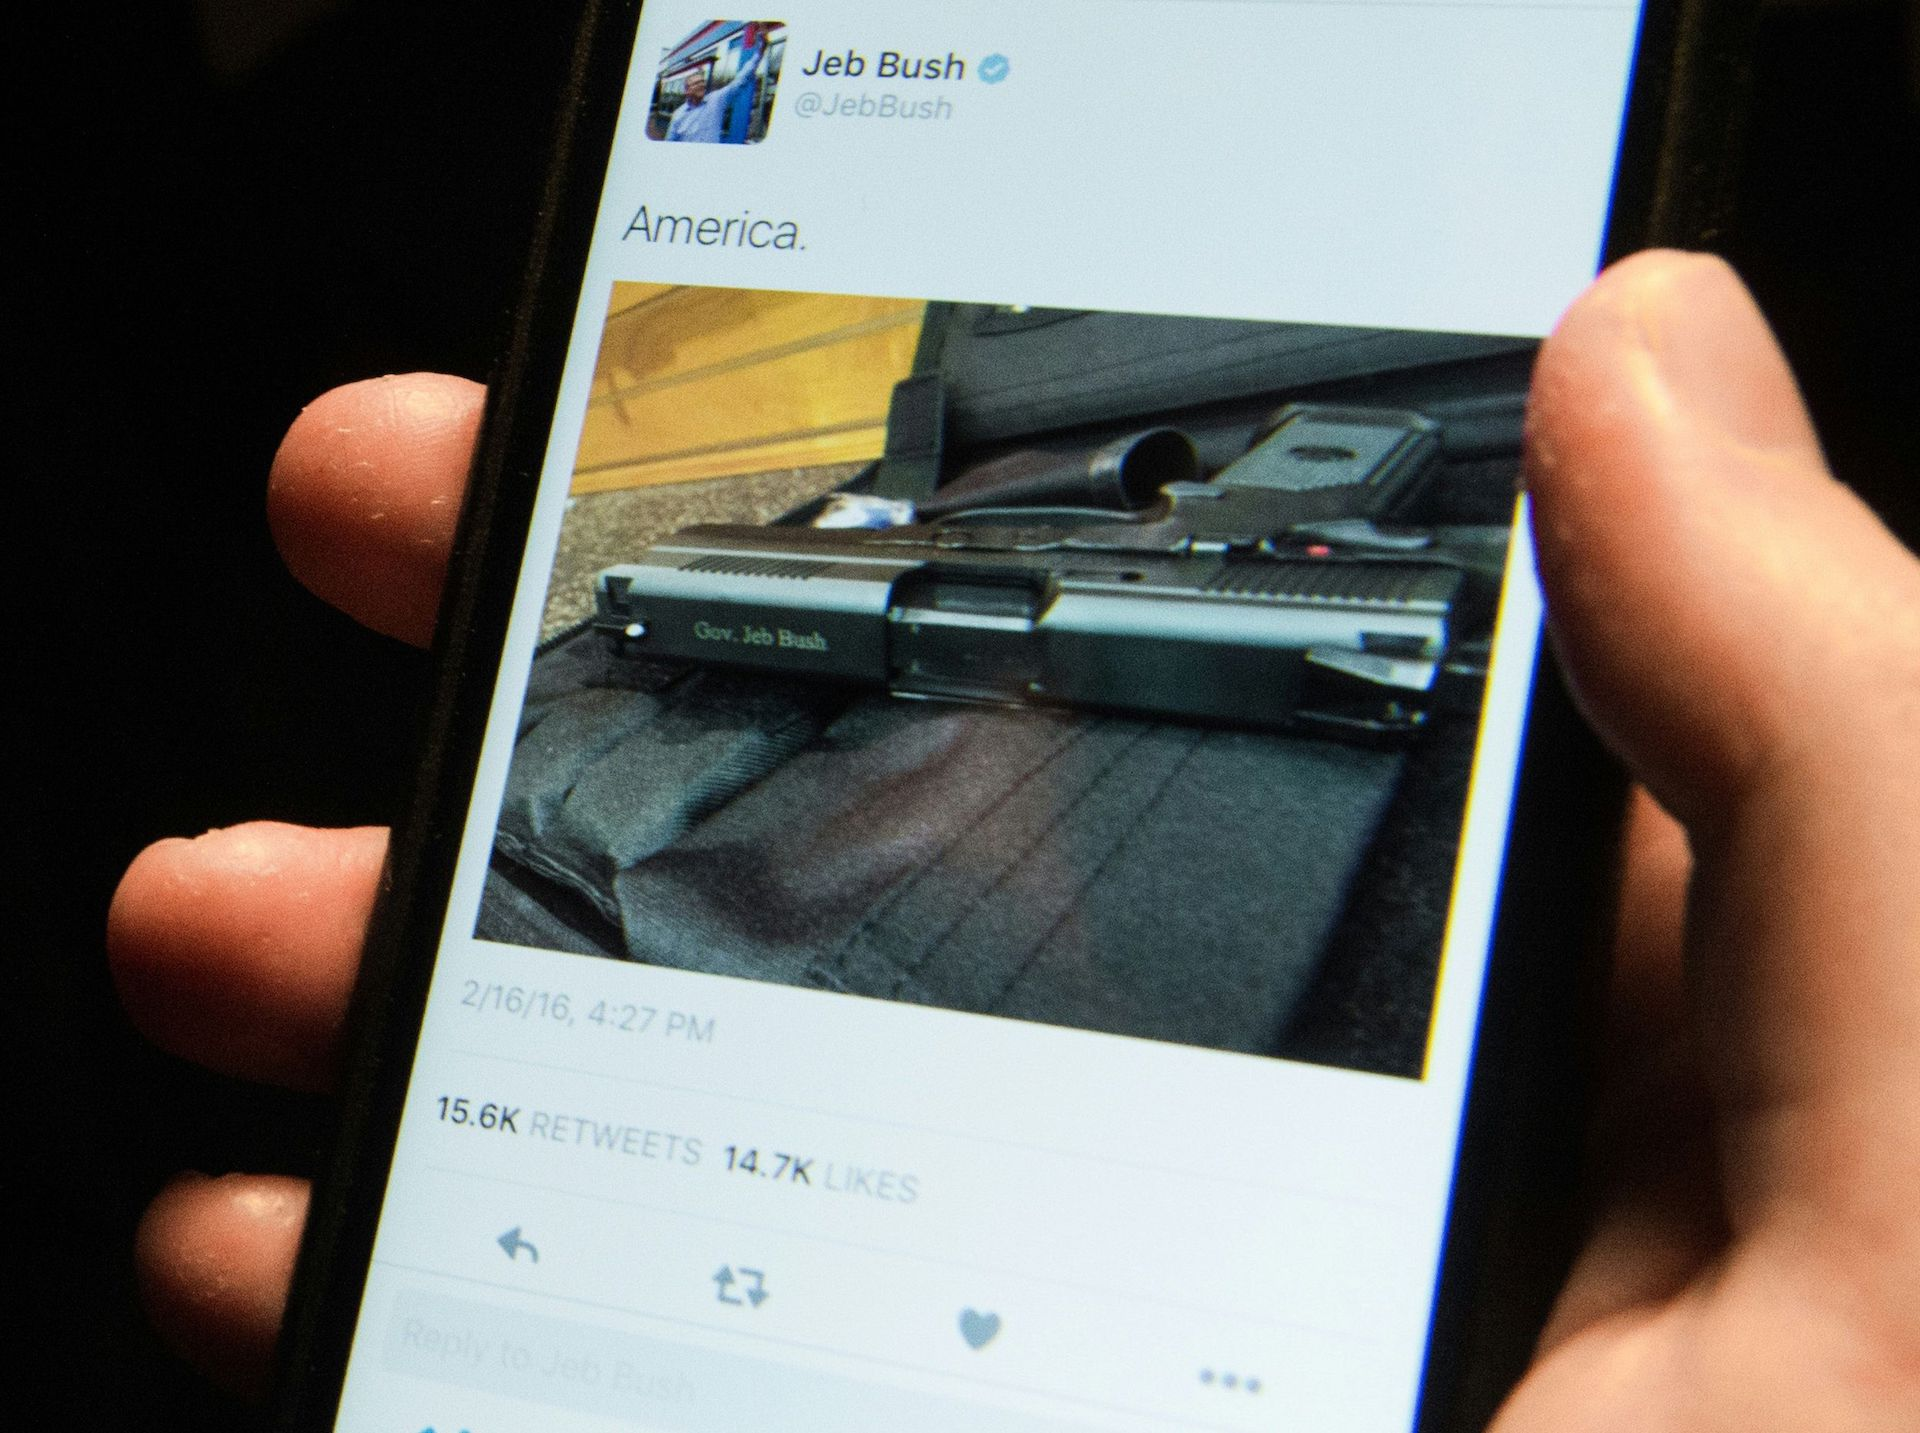pistol: (588, 394, 1505, 750)
